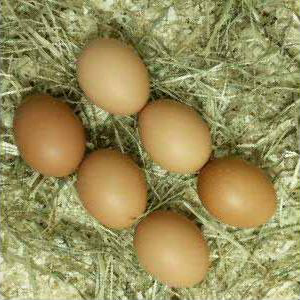egg: (134, 209, 210, 288), (14, 95, 86, 178), (77, 148, 149, 231), (136, 98, 213, 175), (75, 37, 150, 116), (197, 157, 277, 227)
